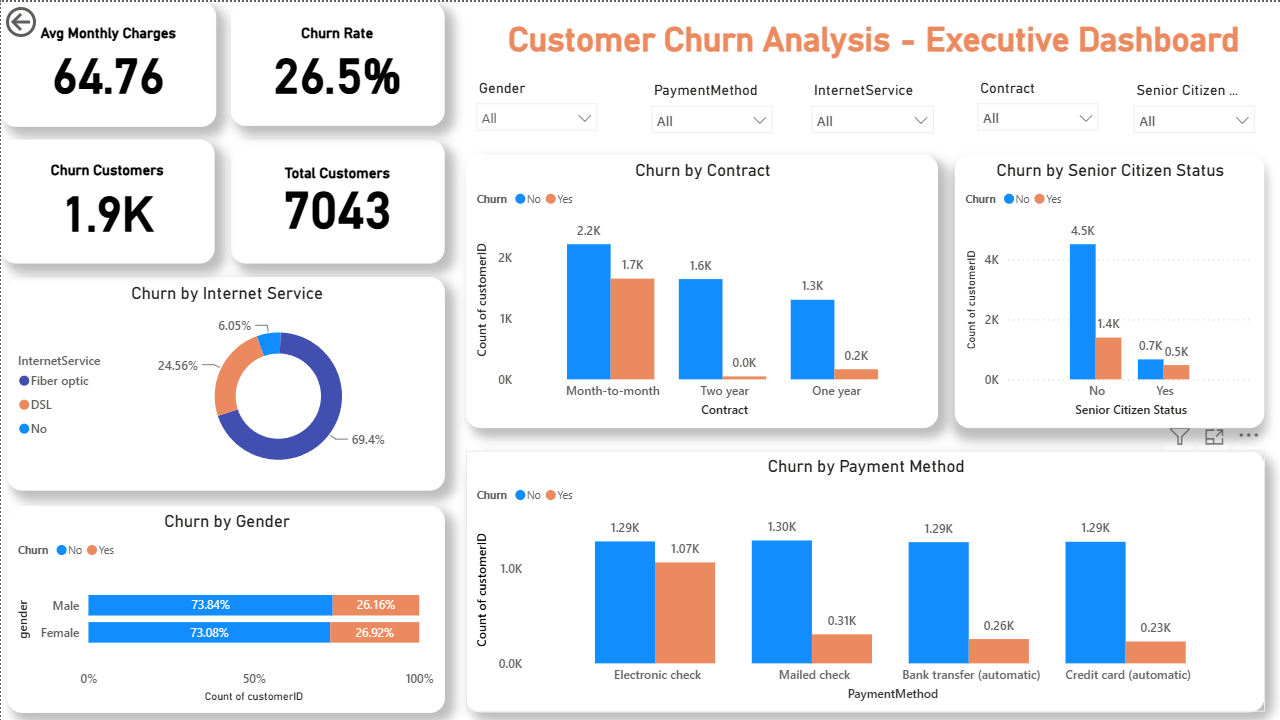

What the dashboard file says about the page in this screenshot:
{"tool":"powerbi","page":{"name":"executive overview","canvas":[1280,720],"ordinal":0},"visuals":[{"type":"cardVisual","fields":{"Data":["Customer-Churn-data.total_customers"]},"box":[230.5,137.8,213.4,124.4],"z":0},{"type":"clusteredColumnChart","title":"Churn by Contract ","fields":{"Series":["Customer-Churn-data.Churn"],"Category":["Customer-Churn-data.Contract"],"Y":["CountNonNull(Customer-Churn-data.customerID)"]},"box":[464.7,152.9,472,273.9],"z":1000},{"type":"clusteredColumnChart","title":"Churn by Payment Method","fields":{"Category":["Customer-Churn-data.PaymentMethod"],"Y":["CountNonNull(Customer-Churn-data.customerID)"],"Series":["Customer-Churn-data.Churn"]},"box":[464.7,448.8,798.5,261.7],"z":2000},{"type":"donutChart","title":"Churn by Internet Service","fields":{"Category":["Customer-Churn-data.InternetService"],"Y":["CountNonNull(Customer-Churn-data.customerID)"]},"box":[6.1,274.4,437.8,213.4],"z":3000},{"type":"cardVisual","fields":{"Data":["Customer-Churn-data.average monthly charges"]},"box":[0,0,215.2,124.7],"z":4000},{"type":"textbox","box":[464.7,0,815.6,62.4],"z":5000},{"type":"slicer","fields":{"Values":["Customer-Churn-data.InternetService"]},"box":[800,74.4,142.7,64.6],"z":6000},{"type":"actionButton","box":[0,0,100,40],"z":7000},{"type":"hundredPercentStackedBarChart","title":"Churn by Gender","fields":{"Category":["Customer-Churn-data.gender"],"Series":["Customer-Churn-data.Churn"],"Y":["CountNonNull(Customer-Churn-data.customerID)"]},"box":[6.1,503.7,437.8,207.3],"z":8000},{"type":"slicer","fields":{"Values":["Customer-Churn-data.PaymentMethod"]},"box":[640.2,74.4,141.5,63.4],"z":9000},{"type":"slicer","fields":{"Values":["Customer-Churn-data.Contract"]},"box":[965.9,72,141.5,64.6],"z":10000},{"type":"slicer","fields":{"Values":["Customer-Churn-data.gender"]},"box":[464.6,72,141.5,64.6],"z":11000},{"type":"cardVisual","fields":{"Data":["Customer-Churn-data.churn_rate"]},"box":[230.5,0,213.4,124.4],"z":12000},{"type":"cardVisual","fields":{"Data":["Customer-Churn-data.churn_customers"]},"box":[0,137.8,213.4,124.4],"z":13000},{"type":"slicer","fields":{"Values":["Customer-Churn-data.Senior Citizen Status"]},"box":[1122,74.4,141.5,64.6],"z":14000},{"type":"clusteredColumnChart","title":"Churn by Senior Citizen Status ","fields":{"Category":["Customer-Churn-data.Senior Citizen Status"],"Series":["Customer-Churn-data.Churn"],"Y":["CountNonNull(Customer-Churn-data.customerID)"]},"box":[953.8,152.9,309.4,273.9],"z":15000}]}

Visuals, with their boxes in screenshot pixels (x1, y1, x2, y2), scaled from the page's 1280x720 canvas onto the 1280x720 screenshot:
cardVisual - Customer-Churn-data.total_customers: bbox=(230, 138, 444, 262)
"Churn by Contract " clusteredColumnChart: bbox=(465, 153, 937, 427)
"Churn by Payment Method" clusteredColumnChart: bbox=(465, 449, 1263, 710)
"Churn by Internet Service" donutChart: bbox=(6, 274, 444, 488)
cardVisual - Customer-Churn-data.average monthly charges: bbox=(0, 0, 215, 125)
textbox: bbox=(465, 0, 1279, 62)
slicer - Customer-Churn-data.InternetService: bbox=(800, 74, 943, 139)
actionButton: bbox=(0, 0, 100, 40)
"Churn by Gender" hundredPercentStackedBarChart: bbox=(6, 504, 444, 711)
slicer - Customer-Churn-data.PaymentMethod: bbox=(640, 74, 782, 138)
slicer - Customer-Churn-data.Contract: bbox=(966, 72, 1107, 137)
slicer - Customer-Churn-data.gender: bbox=(465, 72, 606, 137)
cardVisual - Customer-Churn-data.churn_rate: bbox=(230, 0, 444, 124)
cardVisual - Customer-Churn-data.churn_customers: bbox=(0, 138, 213, 262)
slicer - Customer-Churn-data.Senior Citizen Status: bbox=(1122, 74, 1264, 139)
"Churn by Senior Citizen Status " clusteredColumnChart: bbox=(954, 153, 1263, 427)
